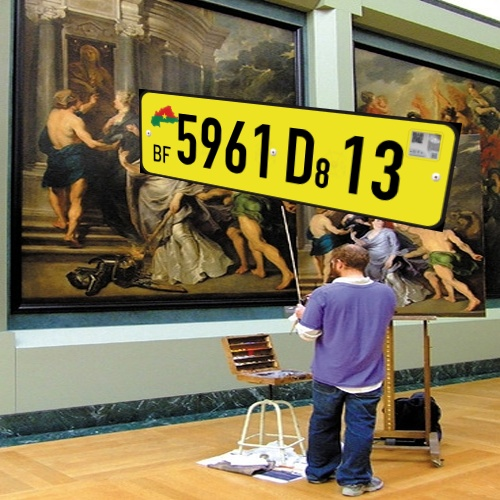plate: (128, 77, 464, 247)
